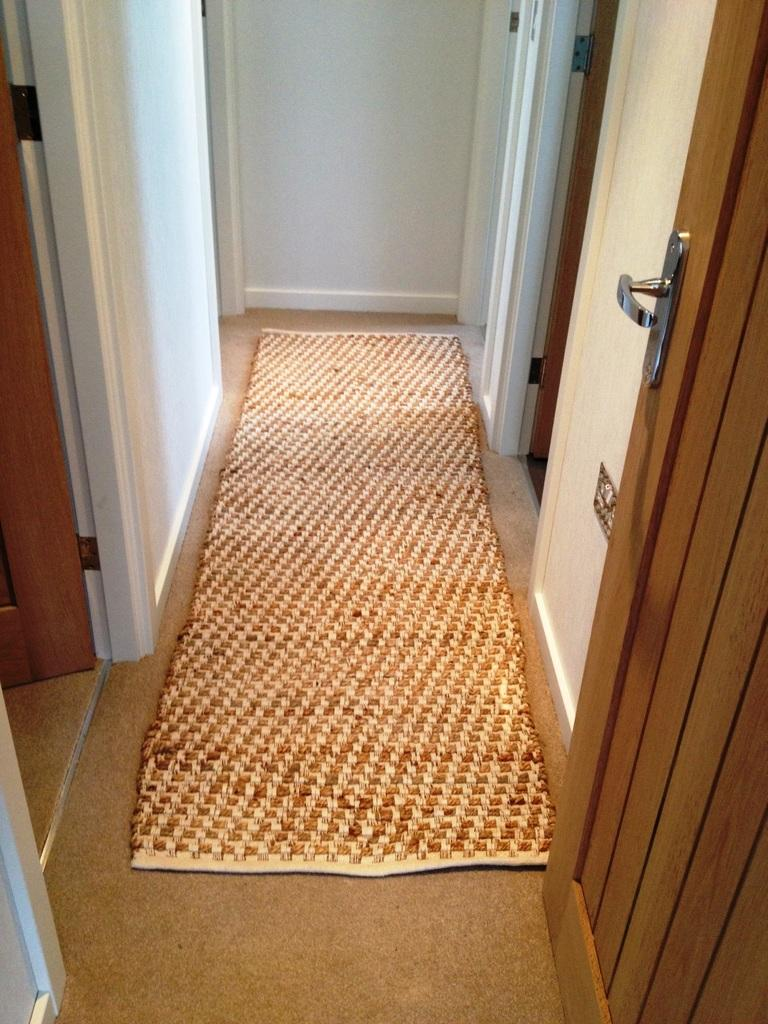handle: (618, 252, 674, 358)
